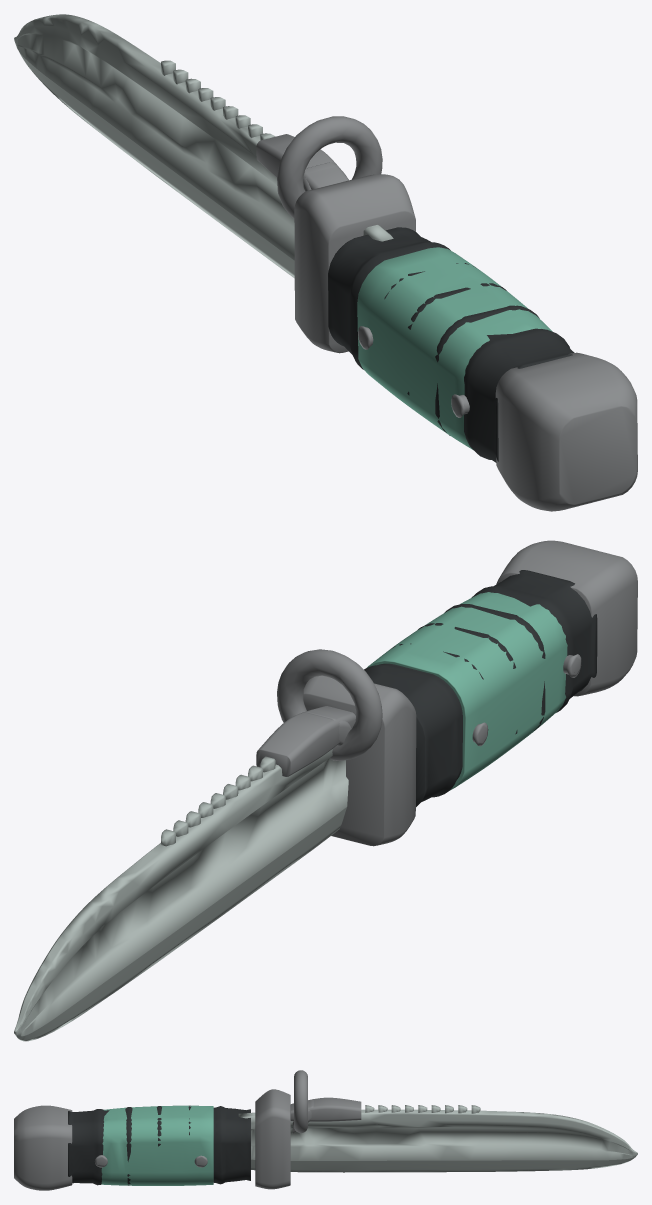
The picture shows the model from 3 angles, top to bottom: view 1: azimuth 30°, elevation 25°; view 2: azimuth 150°, elevation 25°; view 3: azimuth 270°, elevation 25°; orthographic projection. The views are drawn at different scales.
Visible parts, largest first — view 1: Blade, LanyardHole_Batched, InlayGrip, HandleBody, GuardBody_Batched, RingBody_Batched, SerrationTooth0_Batched; view 2: Blade, InlayGrip, GuardBody_Batched, HandleBody, LanyardHole_Batched, RingBody_Batched, SerrationTooth0_Batched; view 3: Blade, InlayGrip, HandleBody, GuardBody_Batched, LanyardHole_Batched, RingBody_Batched, SerrationTooth0_Batched, GripScrew0_Batched.
Boxes of the visible parts, x1,y1,x2,y2 form: Blade: [14, 14, 393, 278]; LanyardHole_Batched: [495, 352, 637, 511]; InlayGrip: [357, 247, 552, 450]; HandleBody: [328, 227, 574, 462]; GuardBody_Batched: [256, 134, 415, 353]; RingBody_Batched: [277, 116, 382, 218]; SerrationTooth0_Batched: [161, 60, 275, 140]; Blade: [14, 749, 348, 1041]; InlayGrip: [367, 592, 567, 790]; GuardBody_Batched: [256, 675, 416, 846]; HandleBody: [364, 570, 597, 806]; LanyardHole_Batched: [496, 540, 637, 696]; RingBody_Batched: [277, 649, 382, 760]; SerrationTooth0_Batched: [161, 756, 275, 846]; Blade: [238, 1109, 637, 1172]; InlayGrip: [101, 1105, 213, 1185]; HandleBody: [68, 1105, 250, 1185]; GuardBody_Batched: [255, 1089, 361, 1189]; LanyardHole_Batched: [14, 1105, 72, 1190]; RingBody_Batched: [292, 1070, 313, 1133]; SerrationTooth0_Batched: [365, 1105, 480, 1113]; GripScrew0_Batched: [94, 1155, 207, 1167].
Bounding box in the file's own units: 0.0356 × 0.0572 × 0.3.
